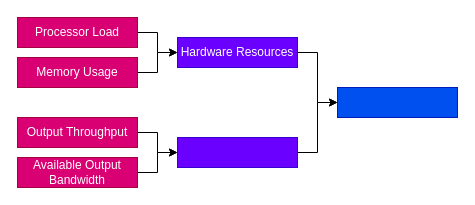
The diagram is 475 pixels wide and 205 high, and some of its shapes have lost their labels. Each missing label, with the box of its shape:
Computing Load Percentage: (336, 86, 458, 118)
Output Congestion: (176, 136, 298, 168)
